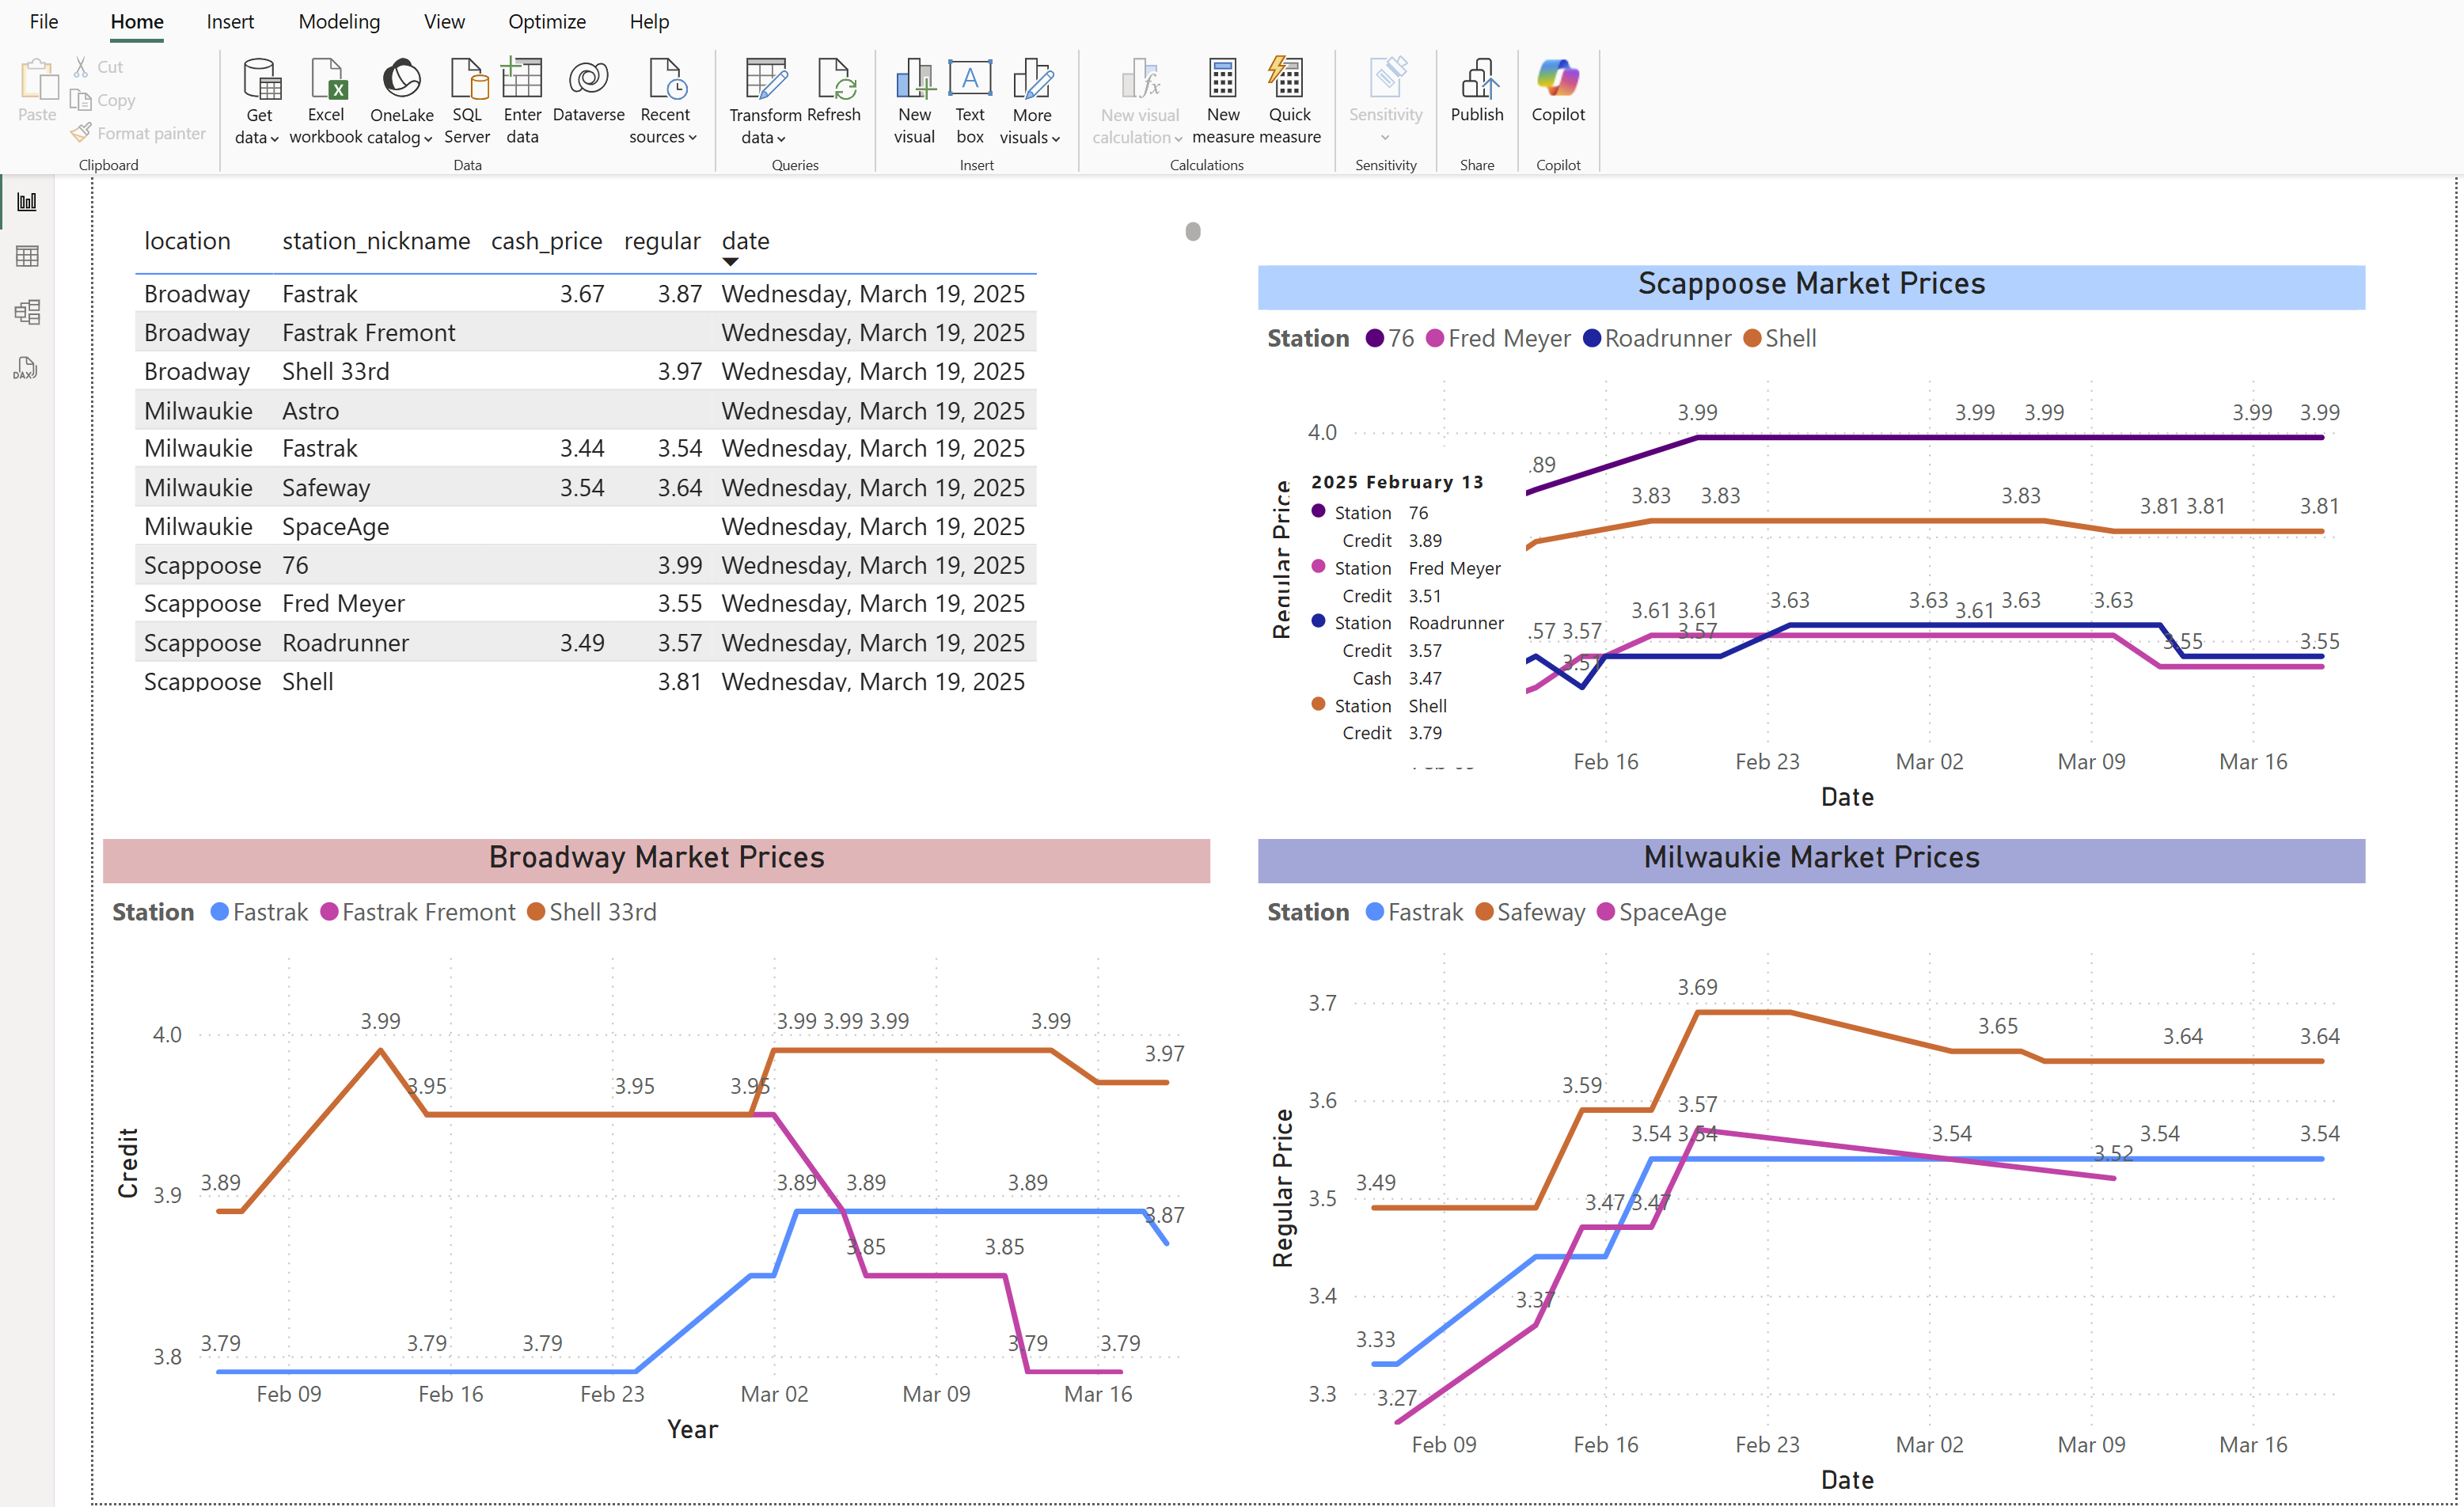

The page's visual inventory and layout, read from the dashboard file:
{"tool":"powerbi","page":{"name":"Price","canvas":[1280,720],"ordinal":0},"visuals":[{"type":"tableEx","fields":{"Values":["gas_prices.location","gas_prices.station_nickname","gas_prices.cash_price","gas_prices.regular","gas_prices.date"]},"box":[16.9,20.1,588.9,265.1],"z":0},{"type":"lineChart","title":"Scappoose Market Prices","fields":{"Category":["gas_prices.date.Variation.Date Hierarchy.Year","gas_prices.date.Variation.Date Hierarchy.Month","gas_prices.date.Variation.Date Hierarchy.Day"],"Series":["gas_prices.station_nickname"],"Y":["Avg(gas_prices.regular)"]},"box":[631.5,49.8,600.2,300.5],"z":1000},{"type":"lineChart","title":"Broadway Market Prices","fields":{"Category":["gas_prices.date.Variation.Date Hierarchy.Year","gas_prices.date.Variation.Date Hierarchy.Month","gas_prices.date.Variation.Date Hierarchy.Day"],"Y":["Avg(gas_prices.regular)"],"Series":["gas_prices.station_nickname"]},"box":[5.6,359.9,600.2,332.6],"z":2000},{"type":"lineChart","title":"Milwaukie Market Prices","fields":{"Category":["gas_prices.date.Variation.Date Hierarchy.Year","gas_prices.date.Variation.Date Hierarchy.Month","gas_prices.date.Variation.Date Hierarchy.Day"],"Y":["Avg(gas_prices.regular)"],"Series":["gas_prices.station_nickname"]},"box":[631.5,359.9,600.2,359.9],"z":3000}]}

Visuals, with their boxes on the page's 1280x720 design canvas (x1, y1, x2, y2). These are canvas units, not pixel positions in the 2464x1507 screenshot, which may show the page scaled, cropped or inside an application window:
tableEx - gas_prices.location x gas_prices.station_nickname: l=17, t=20, r=606, b=285
"Scappoose Market Prices" lineChart: l=632, t=50, r=1232, b=350
"Broadway Market Prices" lineChart: l=6, t=360, r=606, b=692
"Milwaukie Market Prices" lineChart: l=632, t=360, r=1232, b=720
